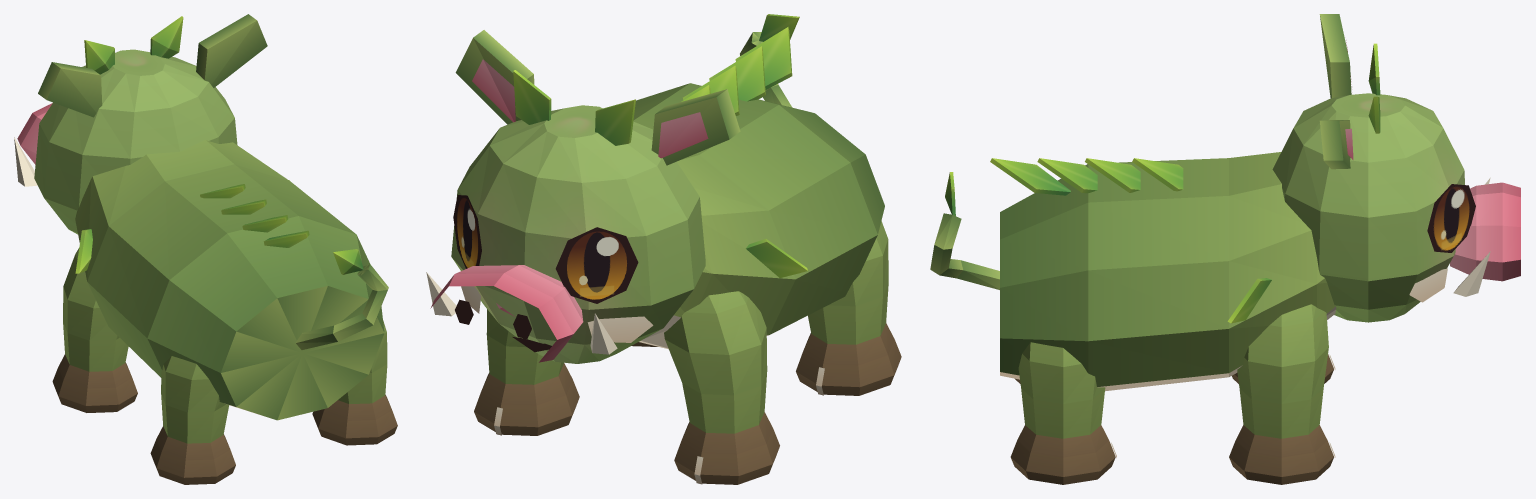
The model's file is BrambleBoar_S1_FacetedReview.glb.
The picture shows the model from 3 angles, left to right: view 1: azimuth 30°, elevation 25°; view 2: azimuth 150°, elevation 25°; view 3: azimuth 270°, elevation 25°; orthographic projection. The views are drawn at different scales.
Visible parts, largest first — view 1: Body, Head, LeftBackLeg, LeftFrontLeg, RightBackLeg, RightEar, LeftEar, Tail, BrowLeaf1, BrowLeaf-1, Snout, LeftTusk (+5 smaller); view 2: Head, Body, LeftFrontLeg, LeftBackLeg, RightFrontLeg, Snout, LeftEye, LeftEar, RightEar, RightEye, LeftEarPink, BrambleMane3 (+11 smaller); view 3: Body, Head, RightFrontLeg, RightBackLeg, Snout, RightEye, Tail, LeftEar, BrambleMane3, RightEar, BrambleMane2, BrambleMane1 (+4 smaller).
Boxes of the visible parts, left/top/right/bottom form: Body: left=75, top=140, right=384, bottom=420; Head: left=34, top=49, right=237, bottom=234; LeftBackLeg: left=150, top=356, right=235, bottom=484; LeftFrontLeg: left=52, top=248, right=137, bottom=412; RightBackLeg: left=312, top=320, right=397, bottom=445; RightEar: left=196, top=14, right=267, bottom=87; LeftEar: left=38, top=62, right=102, bottom=117; Tail: left=296, top=264, right=388, bottom=349; BrowLeaf1: left=150, top=16, right=183, bottom=58; BrowLeaf-1: left=84, top=40, right=114, bottom=74; Snout: left=17, top=103, right=52, bottom=164; LeftTusk: left=14, top=137, right=37, bottom=186; Head: left=451, top=105, right=705, bottom=363; Body: left=633, top=83, right=884, bottom=349; LeftFrontLeg: left=664, top=291, right=779, bottom=484; LeftBackLeg: left=796, top=221, right=901, bottom=395; RightFrontLeg: left=474, top=309, right=579, bottom=435; Snout: left=430, top=265, right=583, bottom=362; LeftEye: left=555, top=227, right=638, bottom=303; LeftEar: left=651, top=89, right=740, bottom=165; RightEar: left=455, top=30, right=534, bottom=124; RightEye: left=453, top=195, right=481, bottom=268; LeftEarPink: left=658, top=112, right=708, bottom=158; BrambleMane3: left=735, top=27, right=792, bottom=89; Body: left=1000, top=152, right=1336, bottom=391; Head: left=1272, top=93, right=1464, bottom=322; RightFrontLeg: left=1229, top=304, right=1333, bottom=484; RightBackLeg: left=1010, top=342, right=1115, bottom=484; Snout: left=1450, top=182, right=1520, bottom=281; RightEye: left=1427, top=184, right=1475, bottom=252; Tail: left=930, top=213, right=999, bottom=289; LeftEar: left=1319, top=14, right=1351, bottom=98; BrambleMane3: left=990, top=158, right=1070, bottom=195; RightEar: left=1319, top=120, right=1350, bottom=169; BrambleMane2: left=1037, top=158, right=1097, bottom=193; BrambleMane1: left=1085, top=158, right=1140, bottom=192.
Bounding box in the file's own units: 3.01 × 3.73 × 5.62.
1 material, 1 textured.
